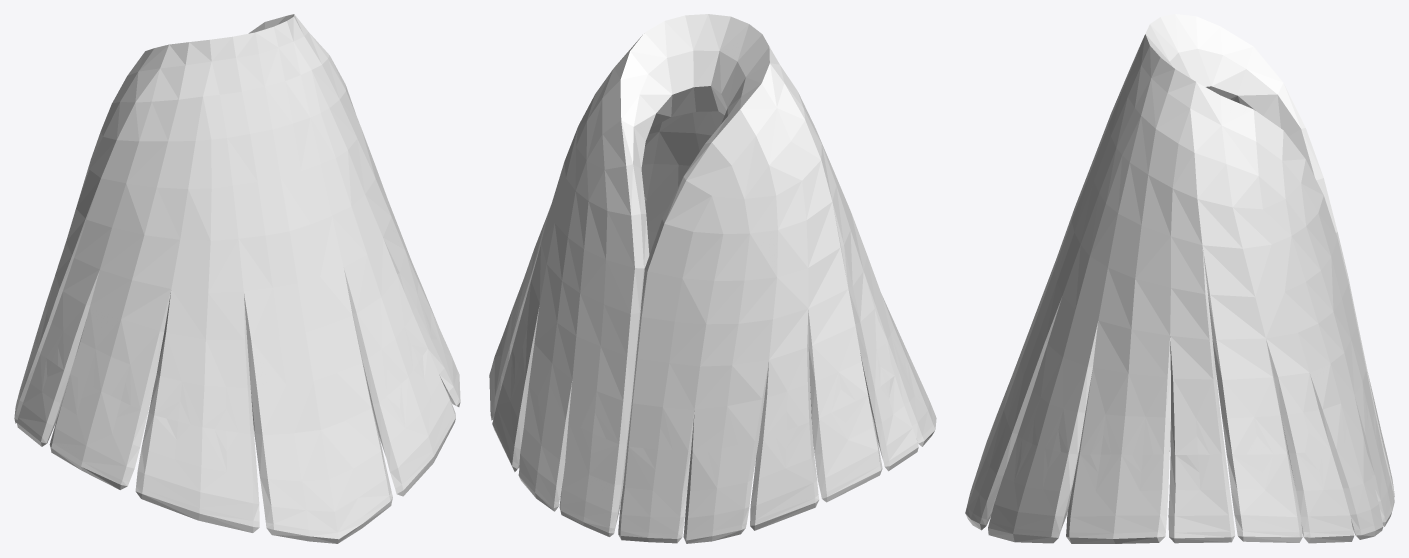
File: CharSkyKid_Wing_ClassicDiamonds.glb
3 views of the same model, side by side, from view 1: azimuth 30°, elevation 25°; view 2: azimuth 150°, elevation 25°; view 3: azimuth 270°, elevation 25° (orthographic). The views are drawn at different scales.
Parts seen in each view (by area): view 1: CharSkyKid_Wing_ClassicDiamonds; view 2: CharSkyKid_Wing_ClassicDiamonds; view 3: CharSkyKid_Wing_ClassicDiamonds.
Boxes of the visible parts, box(x1,y1,x2,y2) form: CharSkyKid_Wing_ClassicDiamonds: box(14, 14, 460, 543); CharSkyKid_Wing_ClassicDiamonds: box(489, 14, 936, 543); CharSkyKid_Wing_ClassicDiamonds: box(965, 14, 1394, 543).
Bounding box in the file's own units: 6.47 × 6.93 × 5.56.
1 material, 1 textured.
